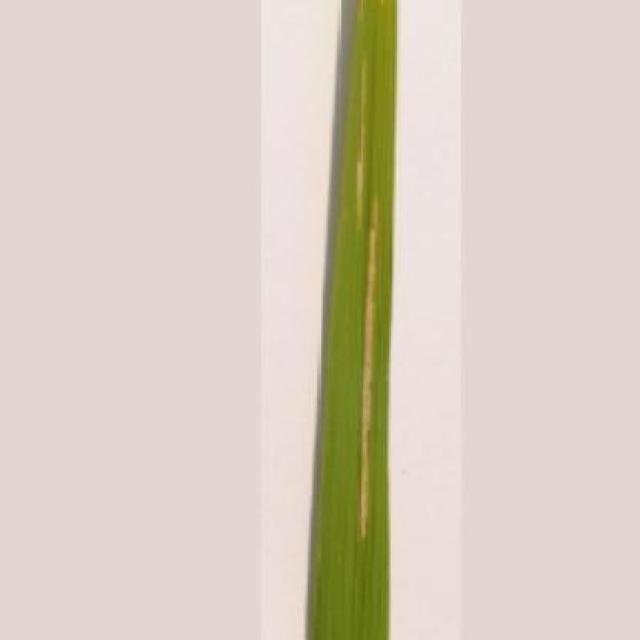Brown_Spot: (308, 0, 403, 640)
